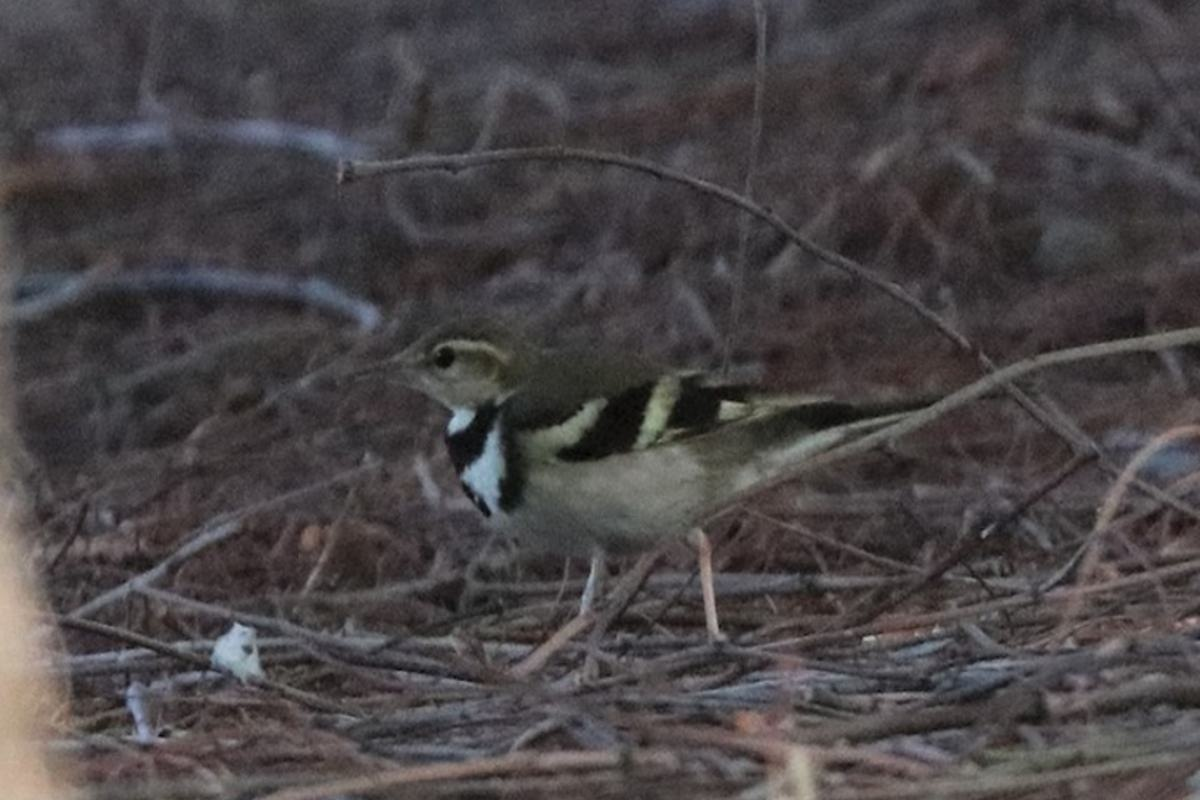wagtail: (387, 296, 849, 637)
